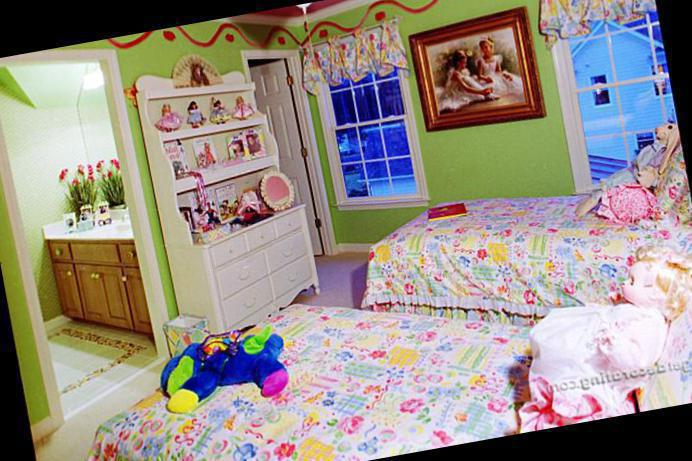Armario: (139, 66, 311, 338)
